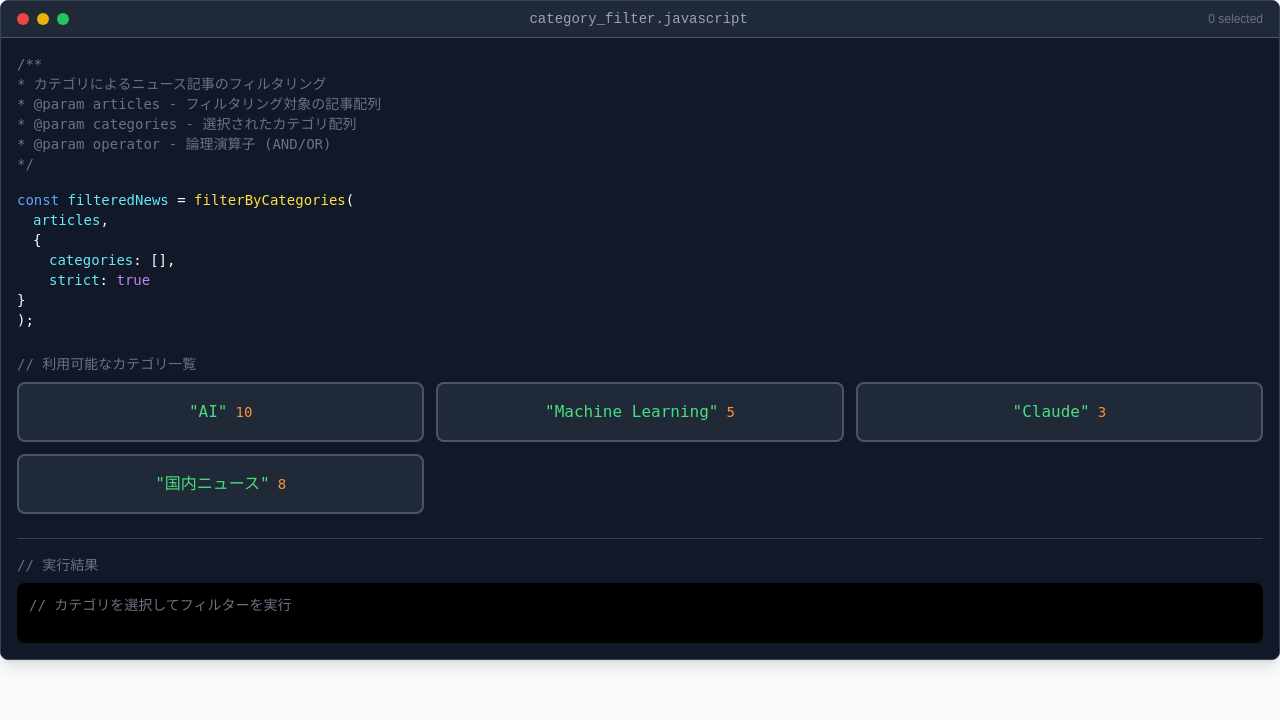
Test: FunctionCallFilter › アニメーション機能 › 実行完了後に結果メッセージが表示される
Click the button with aria-label "AIカテゴリを選択".
click(221, 412)  # box [17,382,424,442]
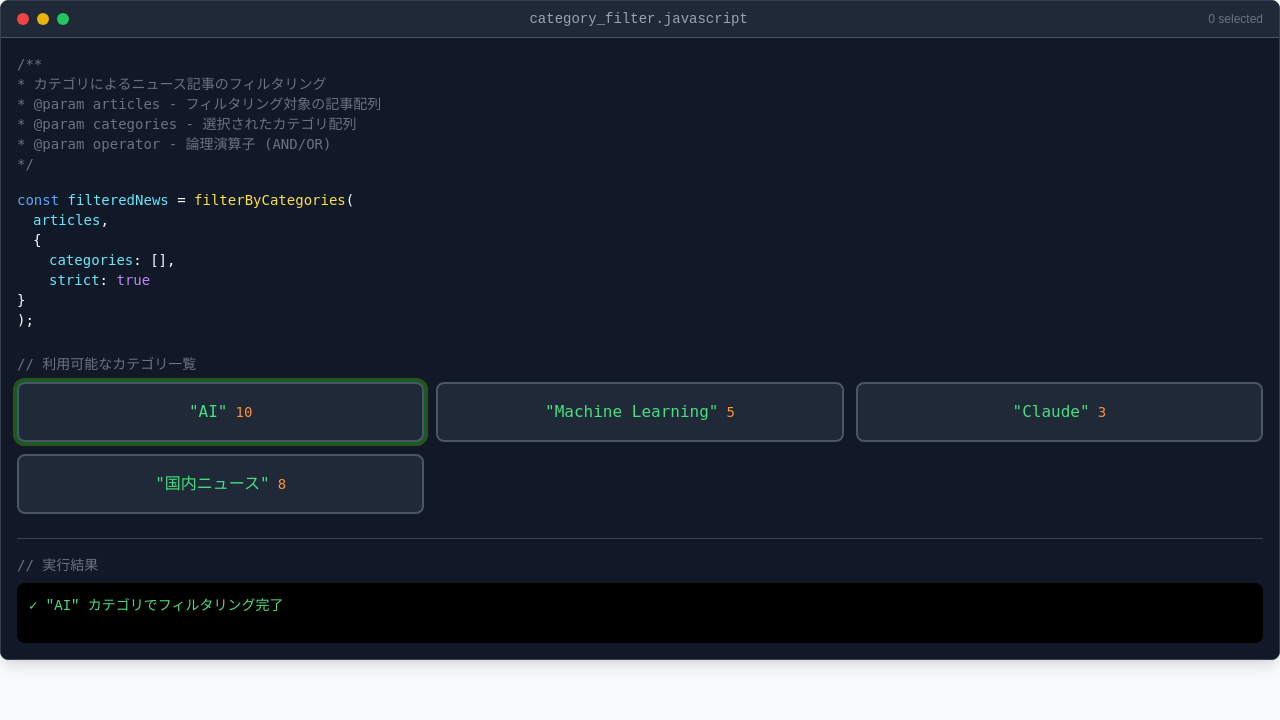
Check: the text "✓ \"AI\" カテゴリでフィルタリング完了" is shown, box [29,598,284,614]
